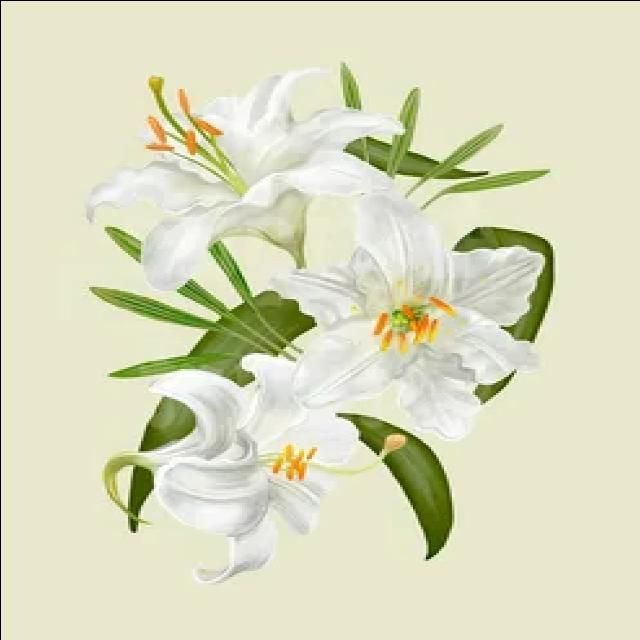lily: (78, 42, 400, 291)
